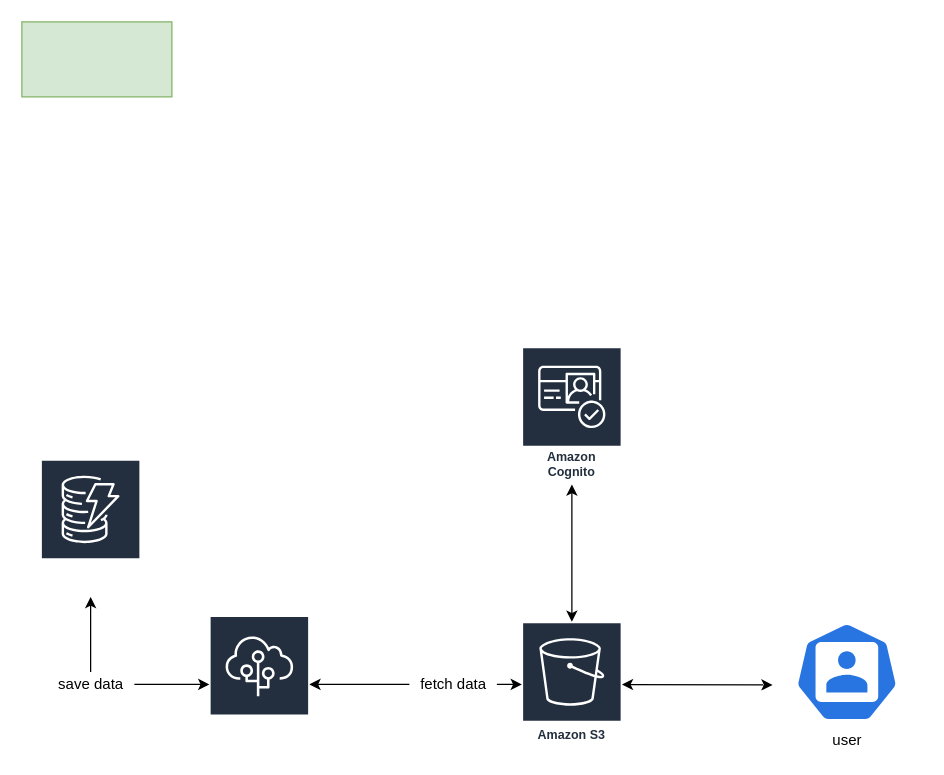
Image size: 944x775. Some labels were removed from this diagram. Each missing label, with the centre of its shape:
"Amazon DynamoDB" belongs at (x=90, y=527).
"AWS Elastic Beanstalk" belongs at (x=258, y=683).
